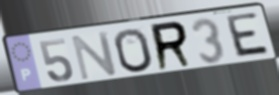3: (191, 14, 228, 67)
5: (36, 36, 74, 84)
E: (225, 11, 273, 60)
N: (70, 29, 120, 83)
O: (112, 27, 156, 75)
R: (149, 20, 195, 74)
